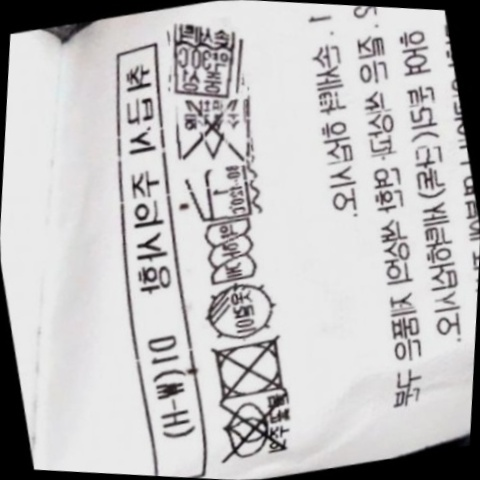DN_tumble_dry: (202, 327, 299, 408)
hand_wash: (159, 18, 251, 104)
iron_low: (183, 157, 262, 229)
line_dry_in_shade: (195, 275, 285, 347)
wring: (198, 214, 266, 291)
